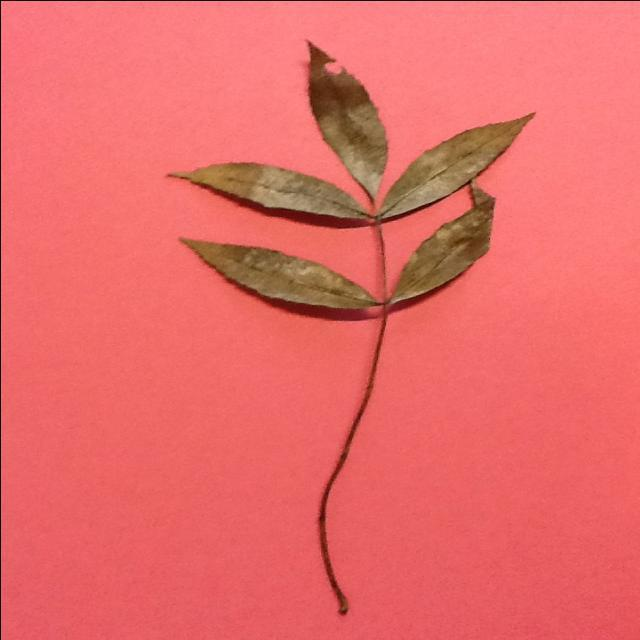foliage: (370, 110, 534, 220), (178, 238, 380, 316), (162, 160, 372, 230), (298, 39, 386, 202), (382, 197, 490, 310)
